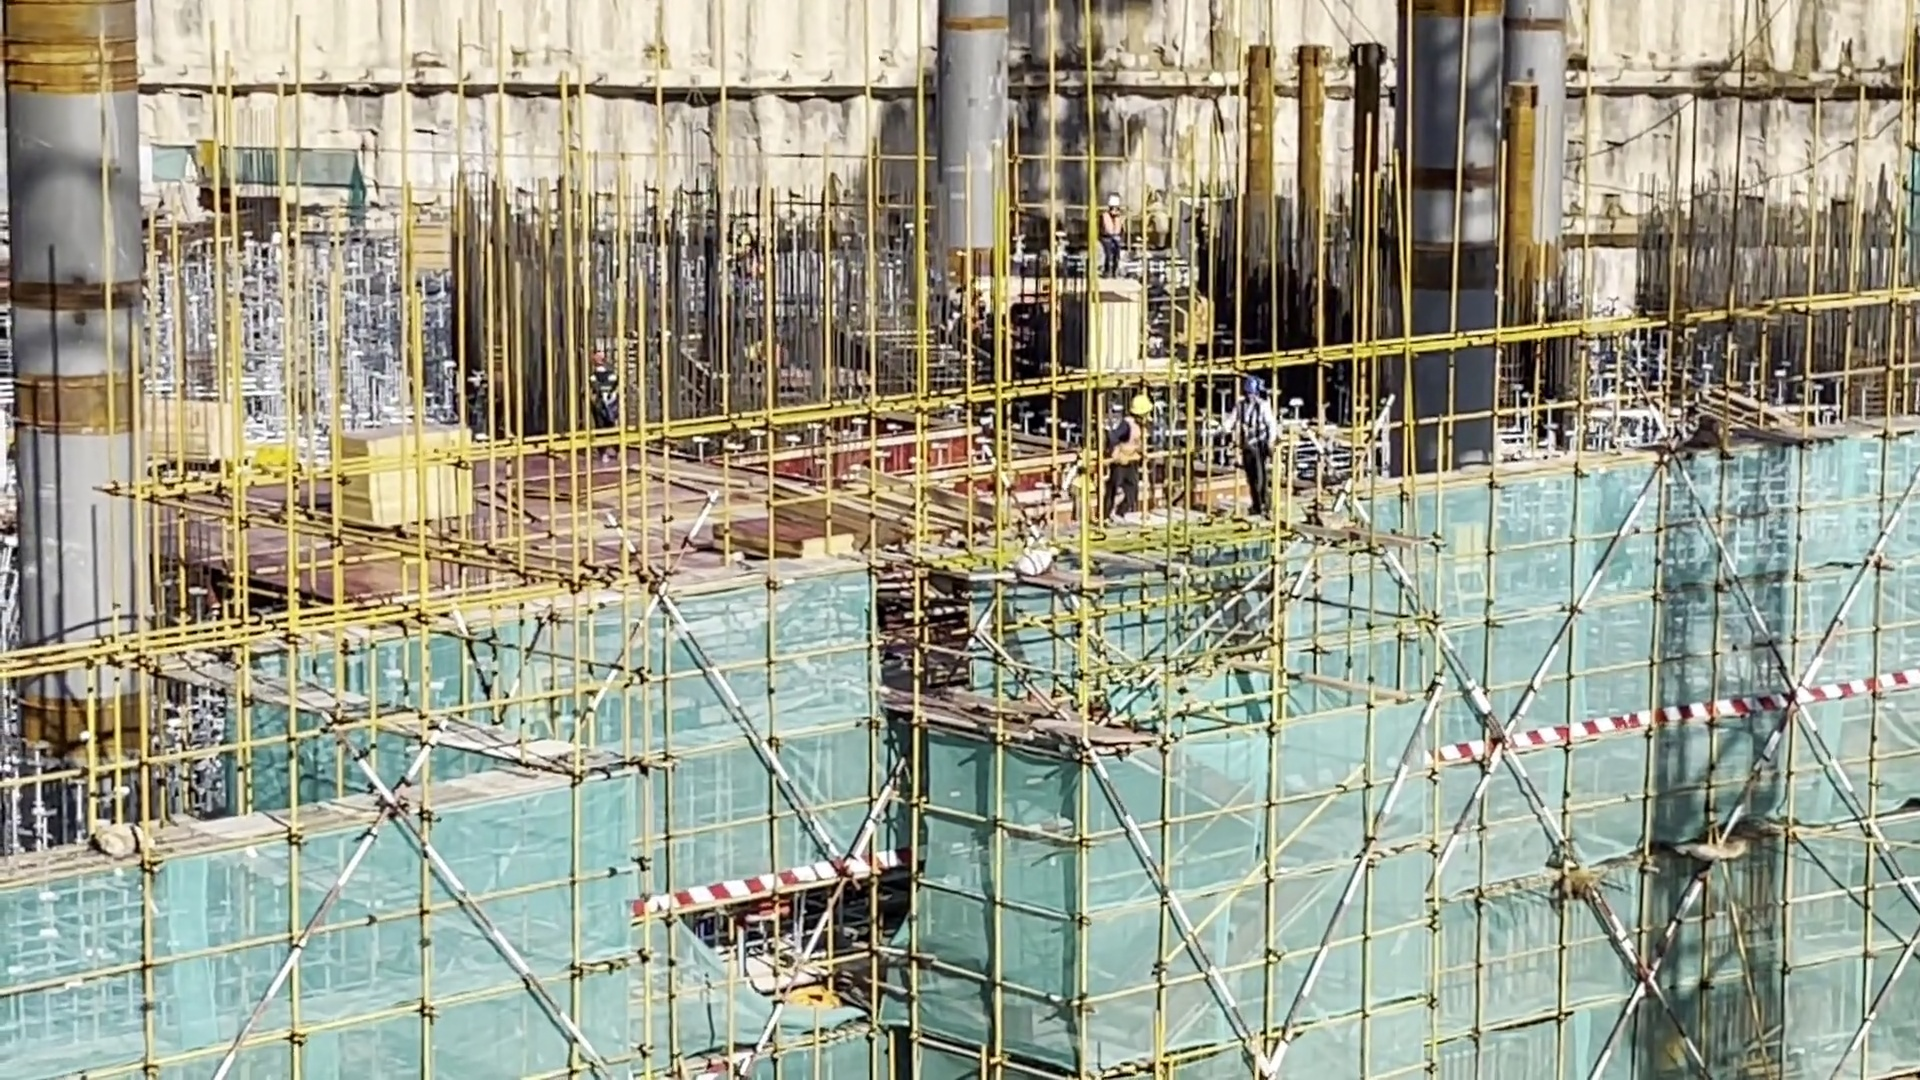board: (354, 406, 463, 521), (713, 497, 803, 567), (409, 222, 479, 289)
helmet: (1125, 398, 1159, 423), (1238, 374, 1271, 400), (739, 229, 762, 251), (1106, 190, 1124, 213), (588, 348, 611, 361), (442, 359, 456, 378), (746, 346, 762, 363)
person: (1236, 355, 1284, 525), (1111, 394, 1164, 546), (571, 348, 631, 443), (444, 357, 486, 459), (730, 236, 763, 332), (1096, 202, 1134, 281), (756, 339, 791, 384)
vest: (1233, 392, 1274, 451), (1108, 422, 1148, 472), (594, 381, 623, 421), (732, 250, 756, 294), (464, 364, 486, 404), (1099, 207, 1126, 237), (764, 339, 790, 366)
wood: (843, 479, 979, 549), (143, 397, 258, 447)
